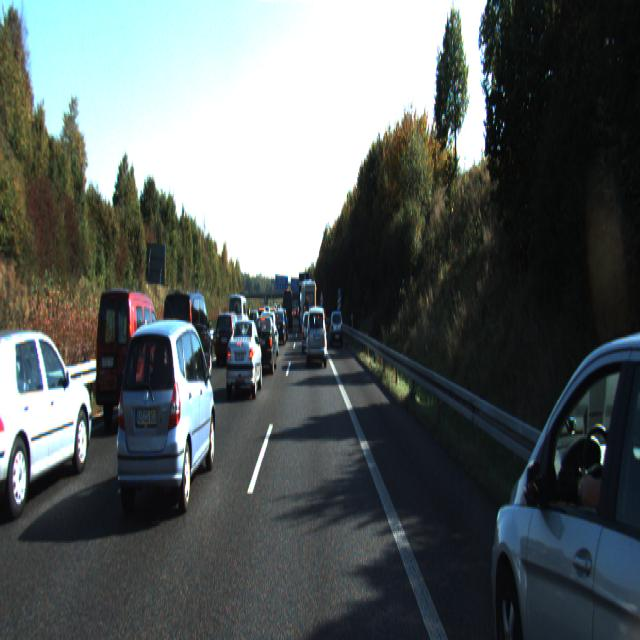Car: (484, 310, 639, 638), (112, 314, 218, 527), (0, 322, 94, 528), (92, 287, 162, 431), (160, 288, 213, 392), (224, 316, 263, 399), (210, 312, 239, 368), (250, 314, 276, 375), (227, 296, 250, 354), (308, 306, 328, 369), (301, 279, 316, 337), (329, 311, 344, 348), (274, 311, 286, 349)
